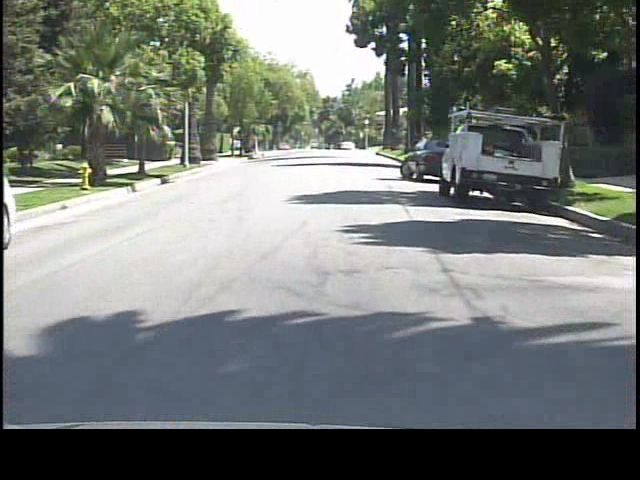car: (399, 137, 439, 177)
strada: (7, 148, 636, 470)
